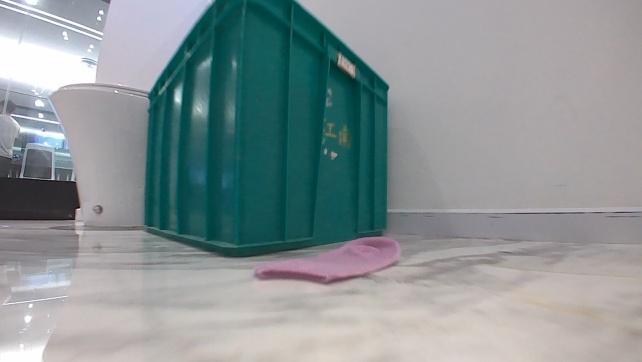socks: (250, 234, 401, 287)
toilet: (45, 80, 149, 230)
